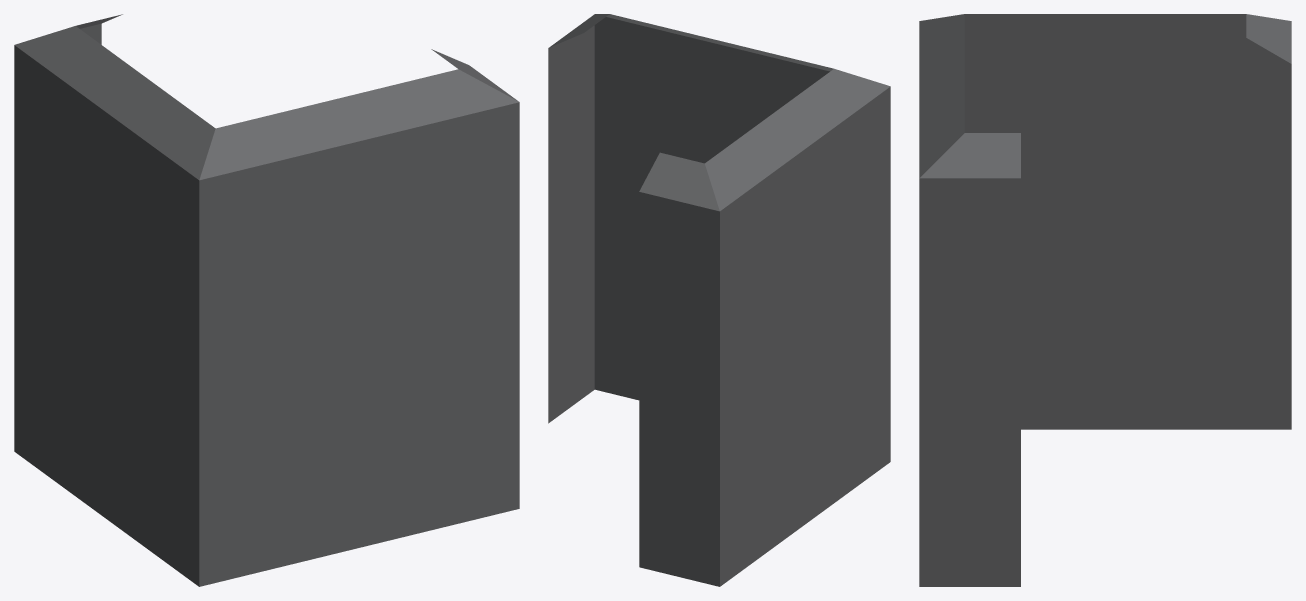
File: SM_Foundation_Corner_Pillar_B.fbx
3 views of the same model, side by side, from view 1: azimuth 30°, elevation 25°; view 2: azimuth 150°, elevation 25°; view 3: azimuth 270°, elevation 25° (orthographic). The views are drawn at different scales.
Visible parts, largest first — view 1: SM_Foundation_Corner_Pillar_B; view 2: SM_Foundation_Corner_Pillar_B; view 3: SM_Foundation_Corner_Pillar_B.
Boxes of the visible parts, x1,y1,x2,y2 form: SM_Foundation_Corner_Pillar_B: (14, 14, 519, 586); SM_Foundation_Corner_Pillar_B: (548, 14, 890, 586); SM_Foundation_Corner_Pillar_B: (919, 14, 1291, 586).
Bounding box in the file's own units: 33 × 42.56 × 33.
